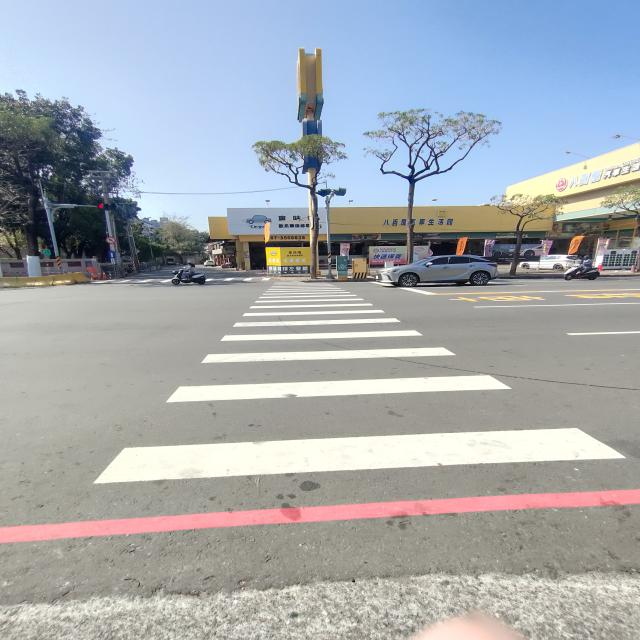zebra crossing: (97, 283, 621, 490), (91, 278, 271, 284)
